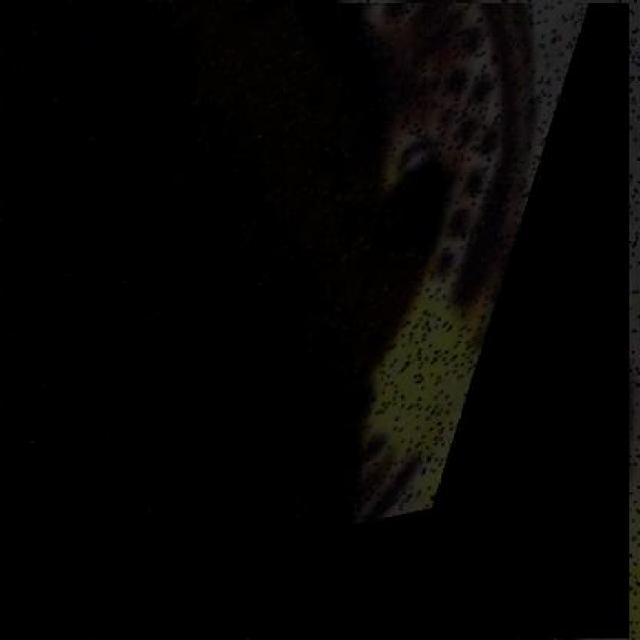Manhole: (2, 3, 630, 639)
